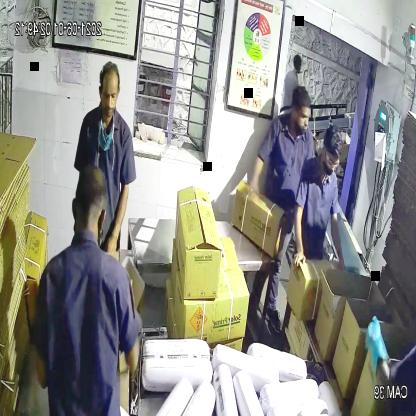goggles: (320, 149, 342, 175)
no_goggles: (96, 83, 124, 109)
